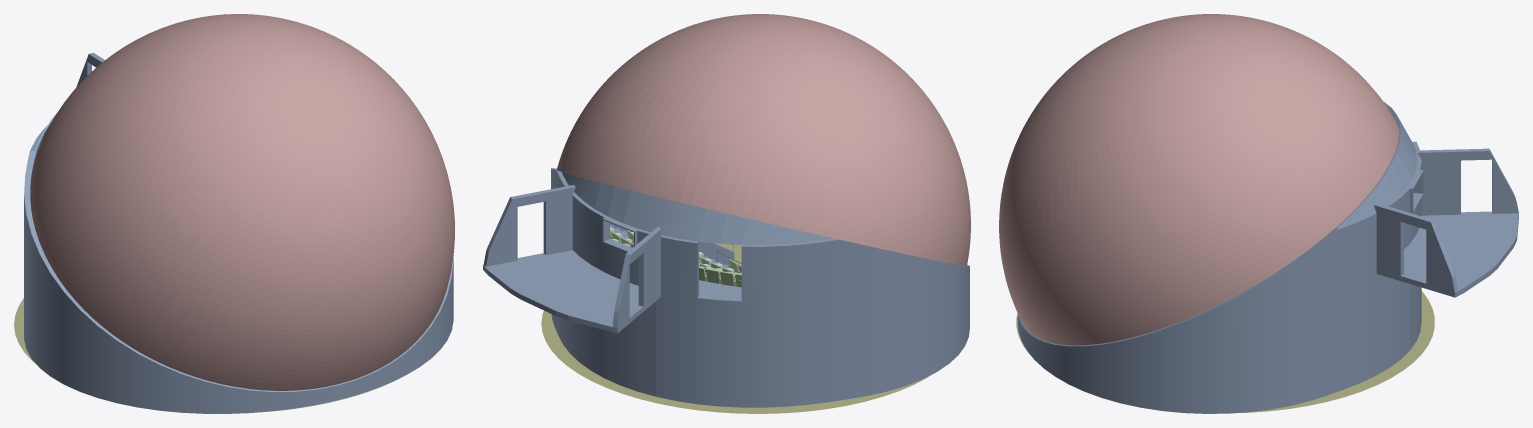
File: wisdome002.glb
3 renders of one model, left to right at view 1: azimuth 30°, elevation 25°; view 2: azimuth 150°, elevation 25°; view 3: azimuth 270°, elevation 25°, orthographic. The views are drawn at different scales.
Parts seen in each view (by area): view 1: Screen, Main_Structure, Floor; view 2: Main_Structure, Screen, Floor, Chairs; view 3: Screen, Main_Structure, Floor.
Part boxes in pixels (<box>): Screen: <box>30,14,454,390</box>; Main_Structure: <box>24,52,453,413</box>; Floor: <box>14,298,397,412</box>; Main_Structure: <box>483,168,969,407</box>; Screen: <box>556,14,970,265</box>; Floor: <box>541,243,930,413</box>; Chairs: <box>610,230,741,287</box>; Screen: <box>999,14,1399,345</box>; Main_Structure: <box>1017,102,1518,413</box>; Floor: <box>1016,291,1434,412</box>.
Bounding box in the file's own units: 15.28 × 11.35 × 18.35.
